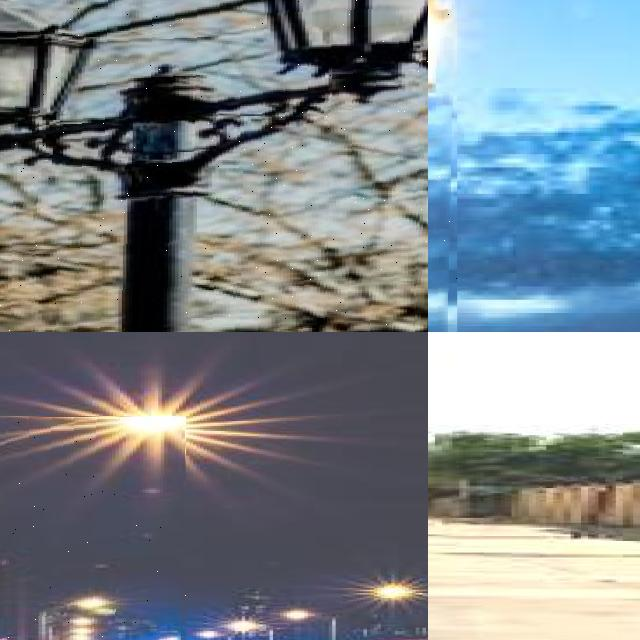street light: (0, 0, 428, 332), (0, 417, 186, 640), (43, 599, 106, 640), (380, 588, 428, 640), (287, 611, 339, 640), (50, 616, 93, 640), (234, 623, 273, 640)
